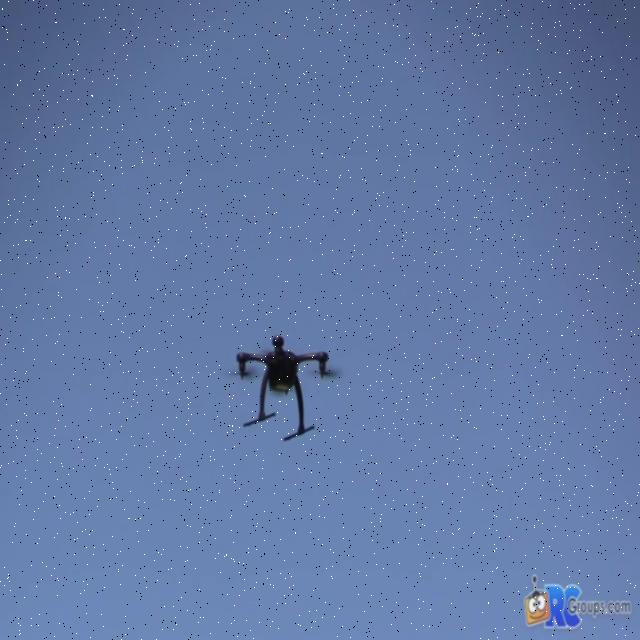UAV: (225, 335, 343, 442)
